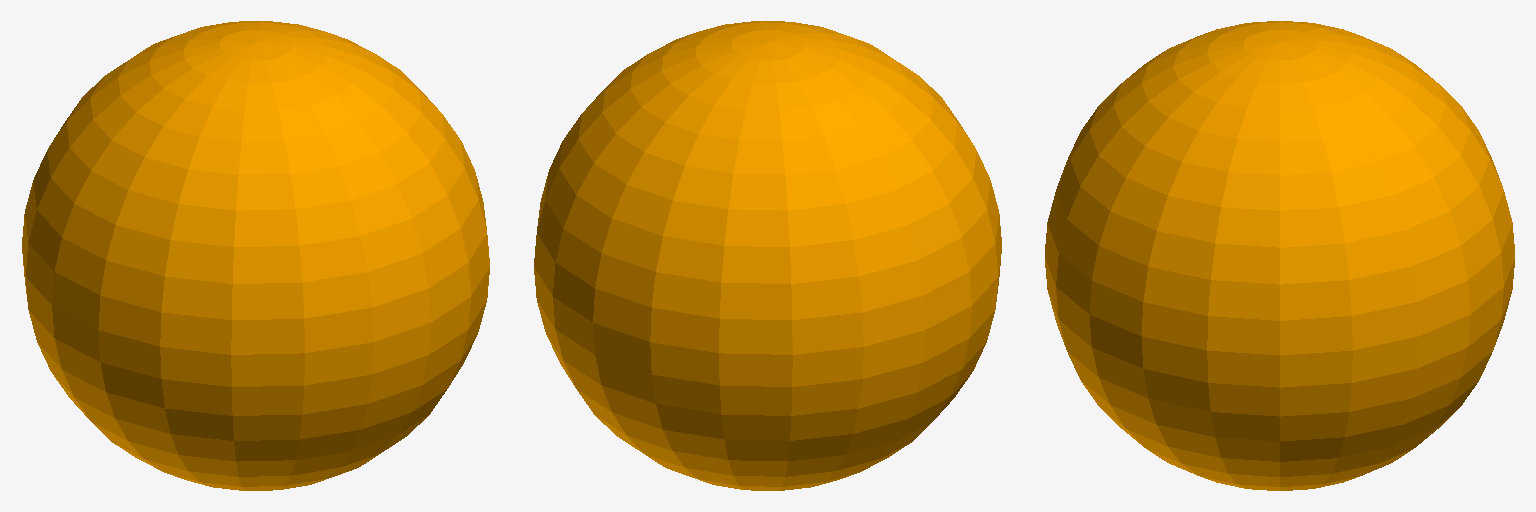
The model's file is sun.obj.
3 views of the same model, side by side, from view 1: azimuth 30°, elevation 25°; view 2: azimuth 150°, elevation 25°; view 3: azimuth 270°, elevation 25° (orthographic).
Parts seen in each view (by area): view 1: pSphere1; view 2: pSphere1; view 3: pSphere1.
Part boxes in pixels (x1,y1,x2,y2): pSphere1: (22, 21, 489, 490); pSphere1: (534, 21, 1001, 490); pSphere1: (1045, 21, 1514, 490).
Size of the model in its own units: 6.84 by 6.84 by 6.84.